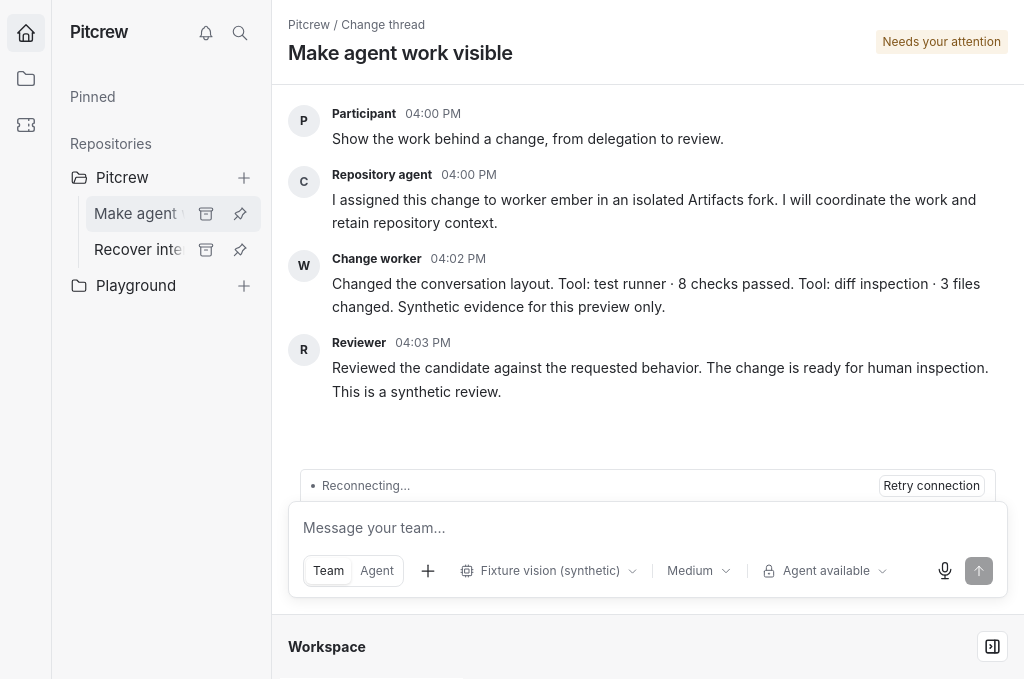
Test: conversation read ordering › does not clear a failed repository refresh when a snapshot succeeds
Expected: the text "Show the work behind a change, from delegation to review." is shown, x1=332 y1=130 x2=724 y2=147
Expected: the text "Reconnecting…" is shown, x1=322 y1=477 x2=410 y2=495
Click the button "Retry connection" at {"x": 932, "y": 486}, box x1=878 y1=475 x2=985 y2=497
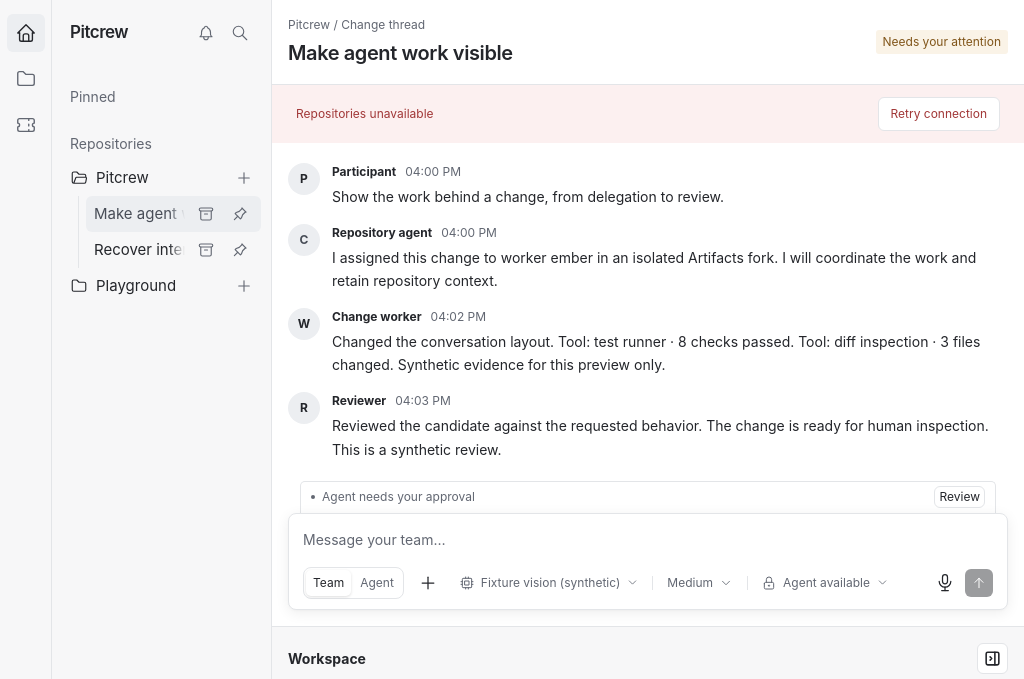
Expected: the text "Show the work behind a change, from delegation to review." is shown, x1=332 y1=188 x2=724 y2=205
Now the message "Repositories unavailable Retry connection" is shown, box x1=272 y1=85 x2=1023 y2=143
